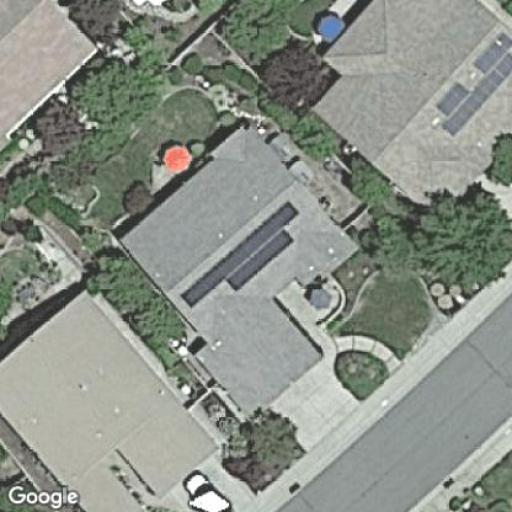solar-panel: (176, 200, 304, 307), (434, 30, 511, 139)
